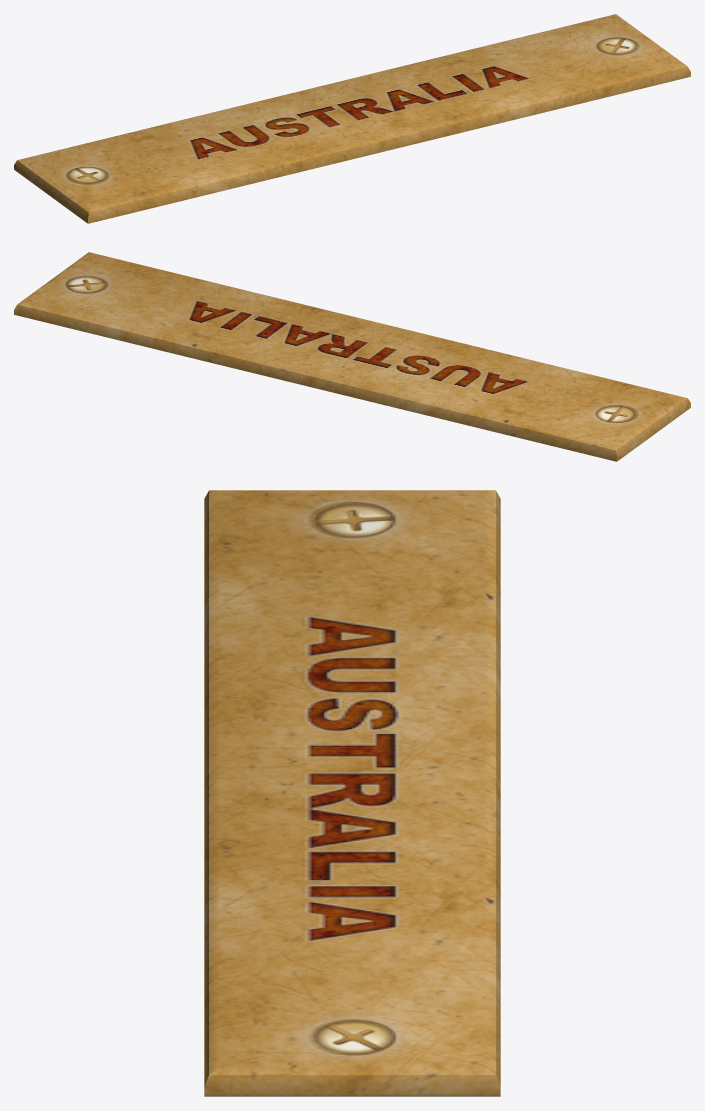
File: mdl_hub_plaque_blank.gltf
The picture shows the model from 3 angles, top to bottom: view 1: azimuth 30°, elevation 25°; view 2: azimuth 150°, elevation 25°; view 3: azimuth 270°, elevation 25°; orthographic projection. The views are drawn at different scales.
Parts seen in each view (by area): view 1: mdl_hub_plaque_australia; view 2: mdl_hub_plaque_australia; view 3: mdl_hub_plaque_australia.
Boxes of the visible parts, x1=… form: mdl_hub_plaque_australia: x1=14, y1=14, x2=690, y2=223; mdl_hub_plaque_australia: x1=14, y1=252, x2=690, y2=461; mdl_hub_plaque_australia: x1=204, y1=490, x2=500, y2=1096.
Size of the model in its own units: 0.3 by 0.00568 by 0.0638.
1 material, 1 textured.
